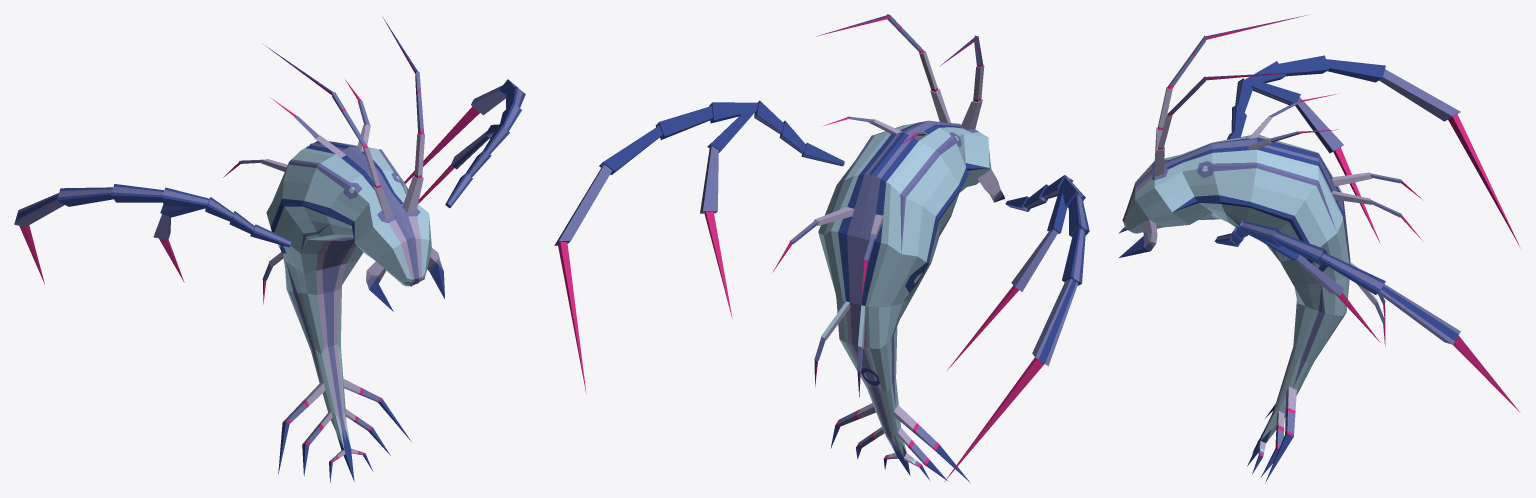
File: Boss_3_colour.fbx
3 renders of one model, left to right at view 1: azimuth 30°, elevation 25°; view 2: azimuth 150°, elevation 25°; view 3: azimuth 270°, elevation 25°, orthographic. The views are drawn at different scales.
Visible parts, largest first — view 1: Plane, Cube.001, Cube; view 2: Plane, Cube, Cube.001; view 3: Plane, Cube.001, Cube.
Part boxes in pixels (box(x1,y1,x2,y2)): Plane: box(223, 16, 444, 482); Cube.001: box(14, 184, 291, 284); Cube: box(404, 79, 525, 208); Plane: box(772, 14, 1005, 482); Cube: box(554, 100, 844, 394); Cube.001: box(944, 175, 1089, 481); Plane: box(1118, 15, 1423, 482); Cube.001: box(1227, 55, 1521, 249); Cube: box(1214, 219, 1520, 412).
Size of the model in its own units: 169 by 147 by 127.
